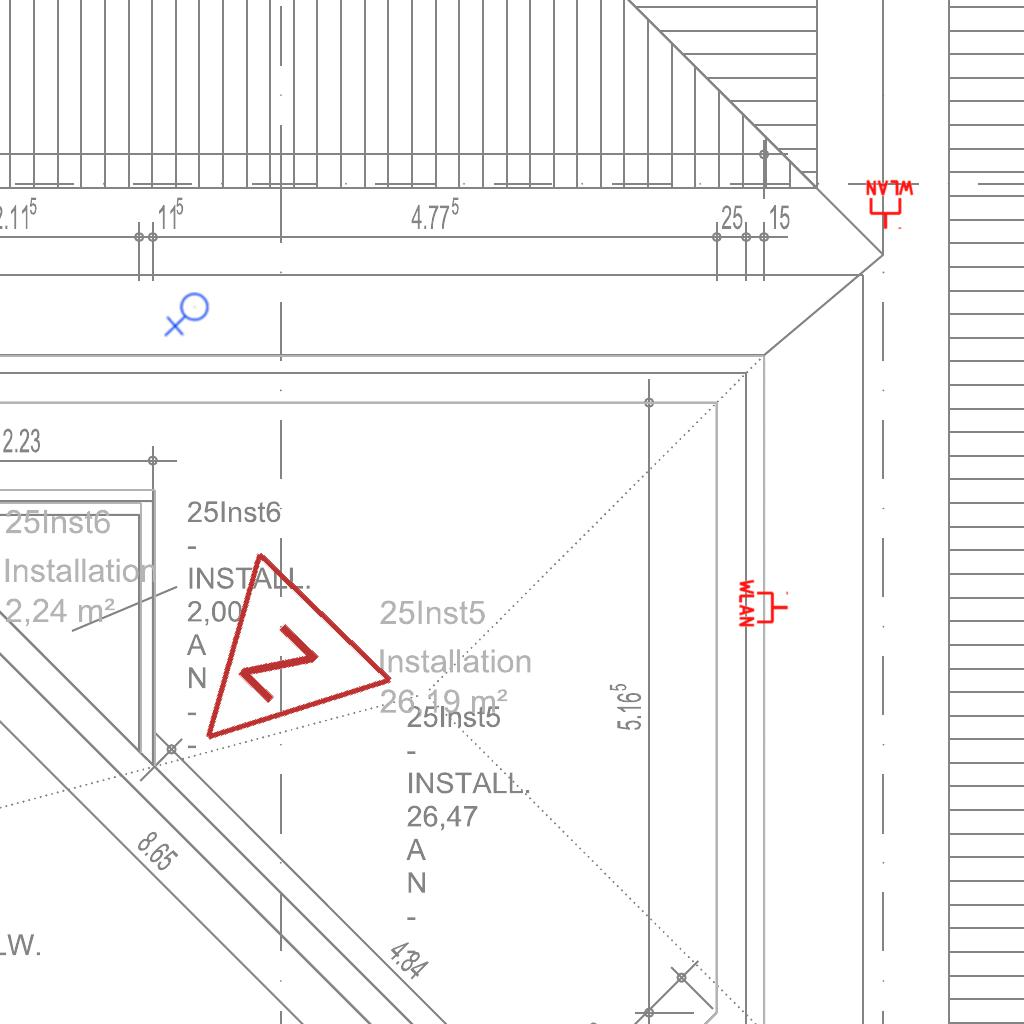Elektroanschluss_allgemein_230V_Geraeteanschlussdose_230V: (164, 292, 213, 339)
WLAN: (738, 577, 790, 629), (864, 179, 916, 231)
Zimmersignalleuchte: (129, 537, 409, 819)
